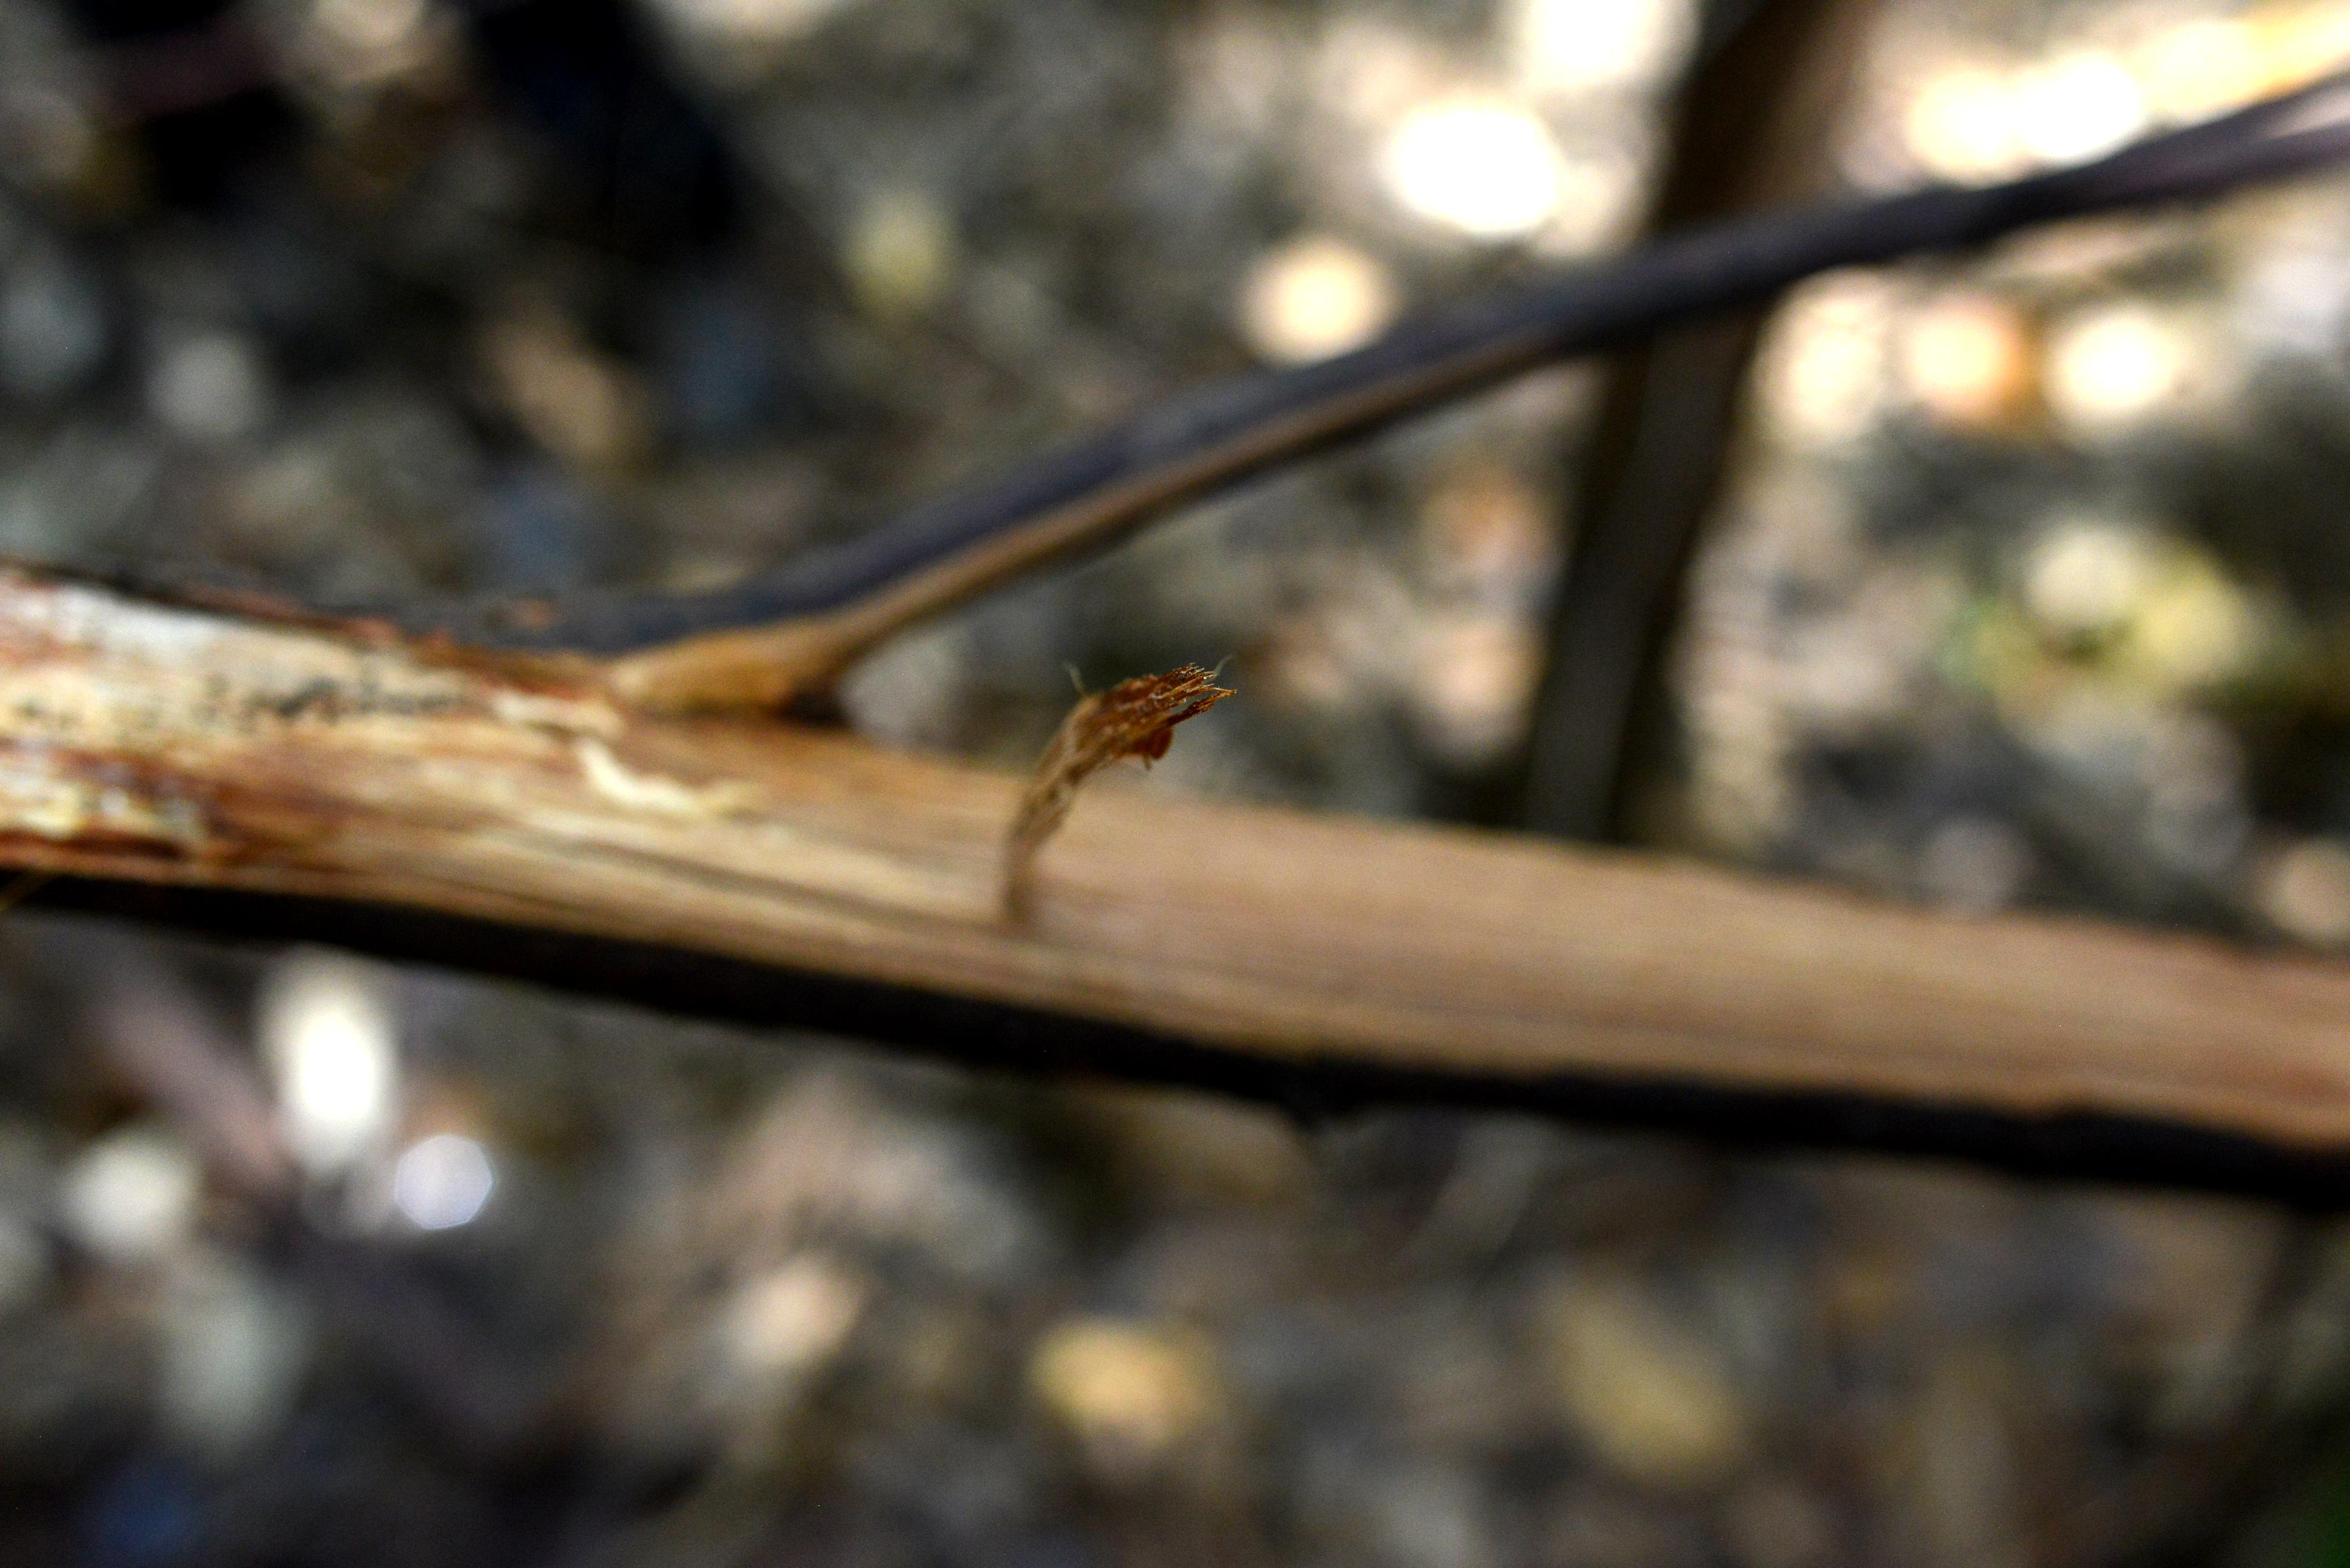Mammals Attack: (0, 588, 2350, 1146), (619, 318, 1559, 724)
